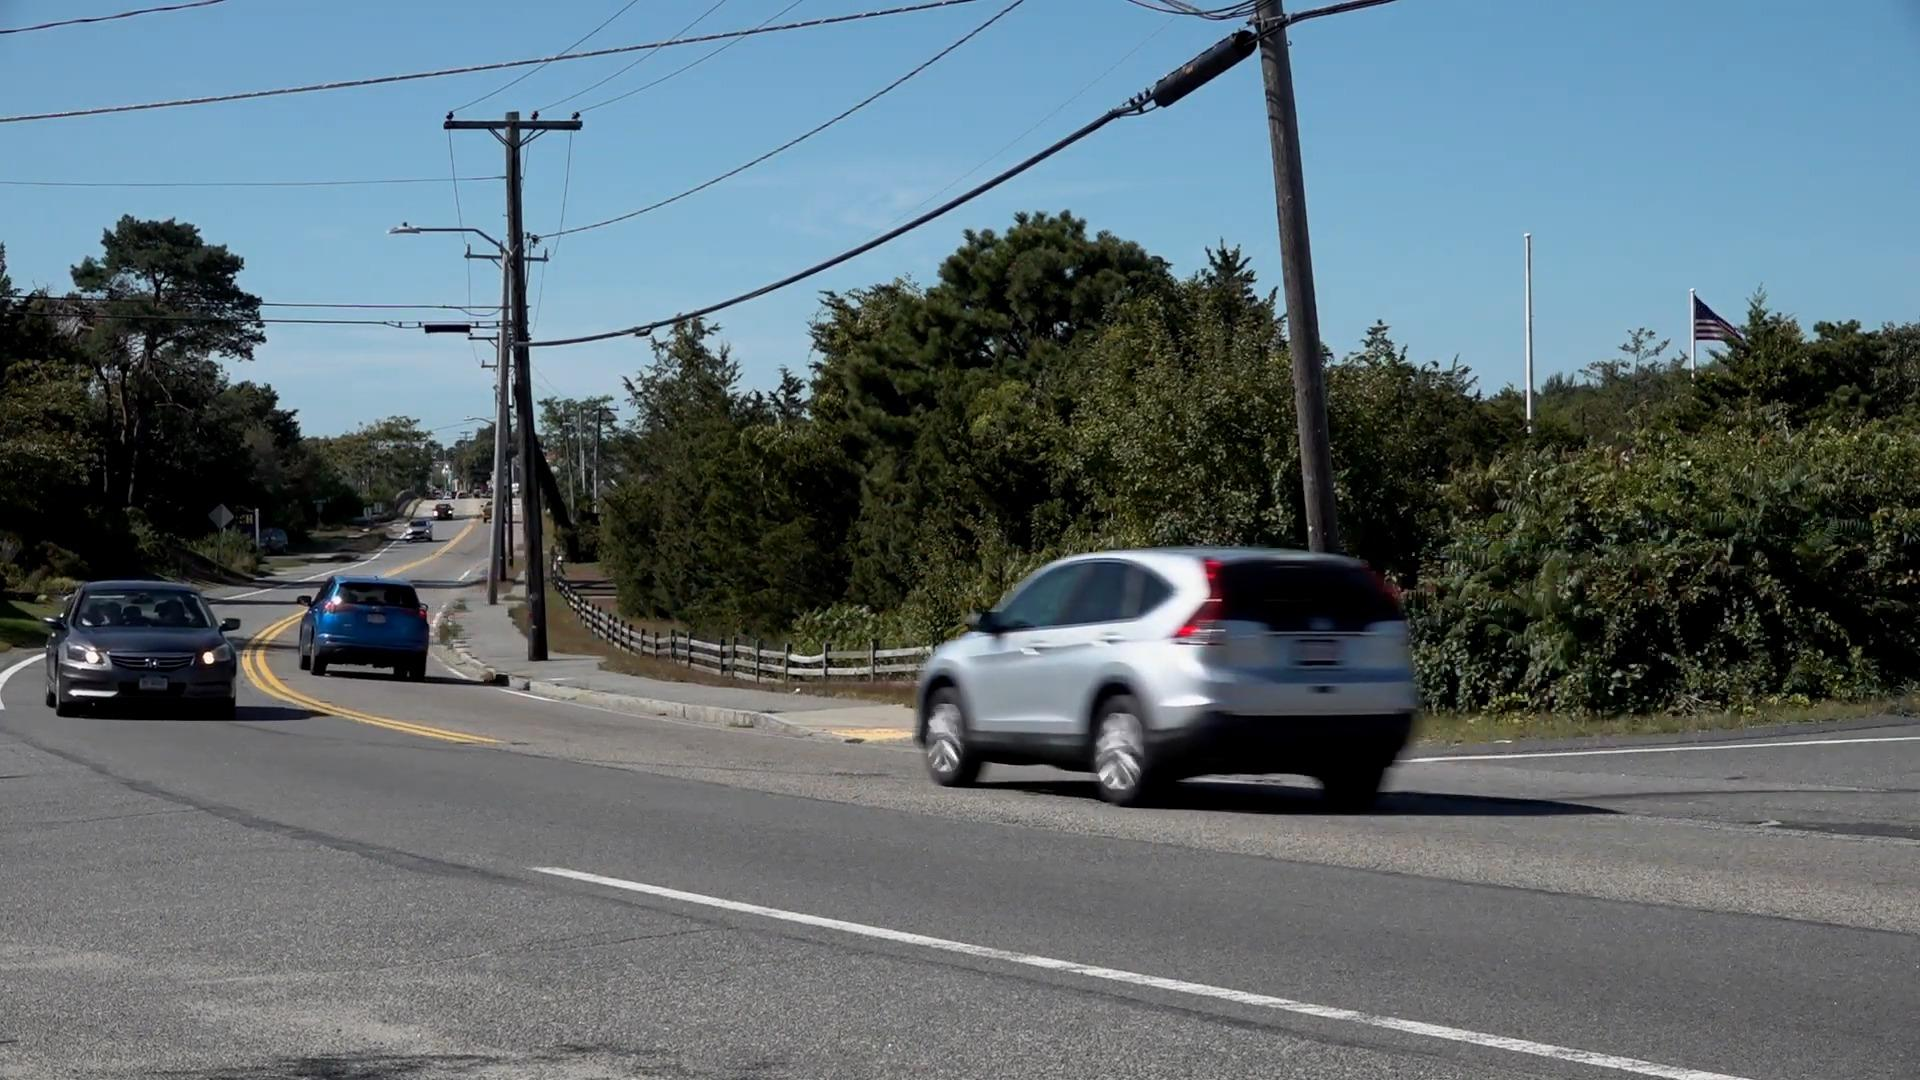sedans: (48, 574, 241, 711)
suv: (924, 544, 1434, 822), (291, 571, 441, 688)
